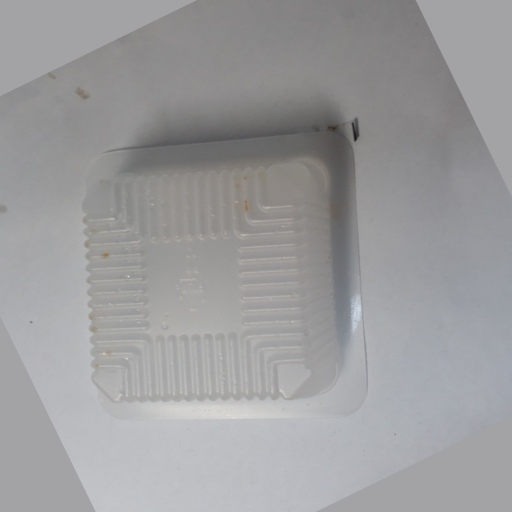Plastic_4: (74, 122, 370, 418)
